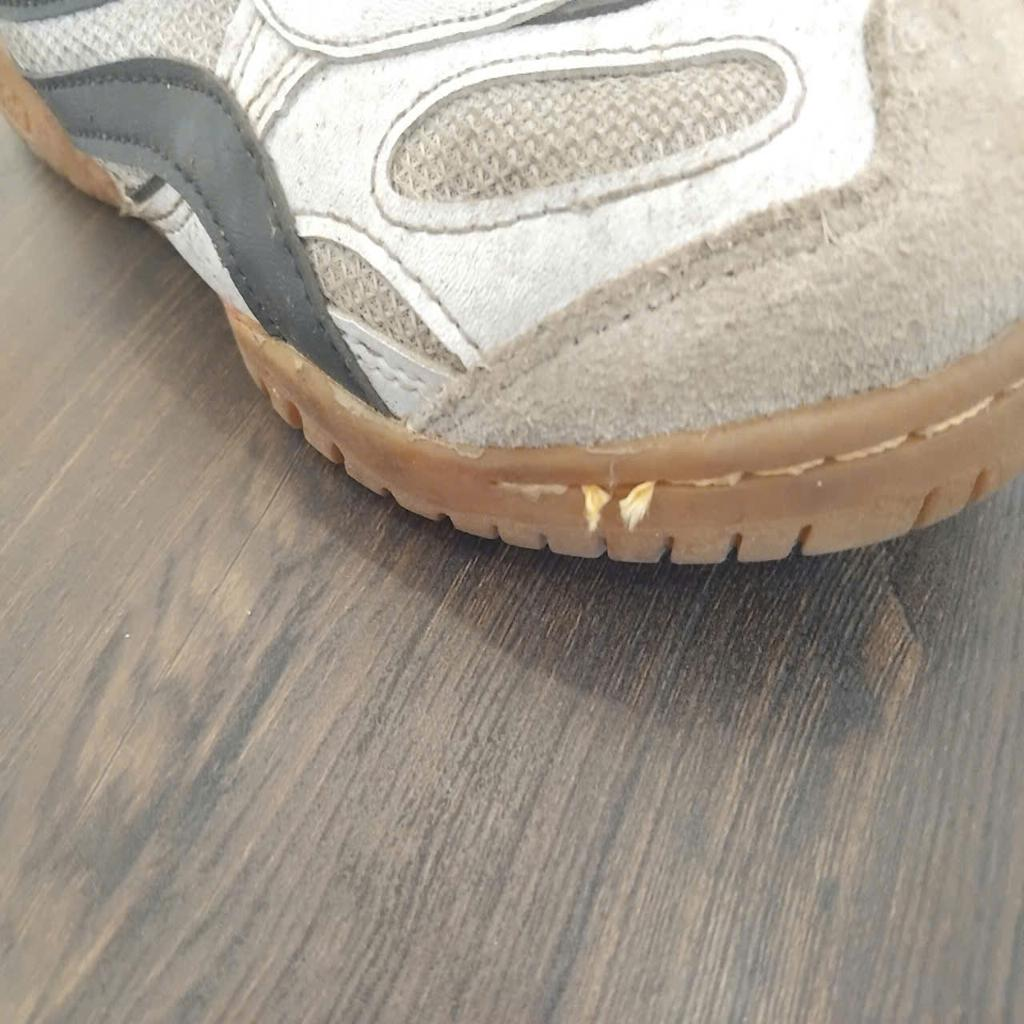broken: (574, 474, 674, 546)
